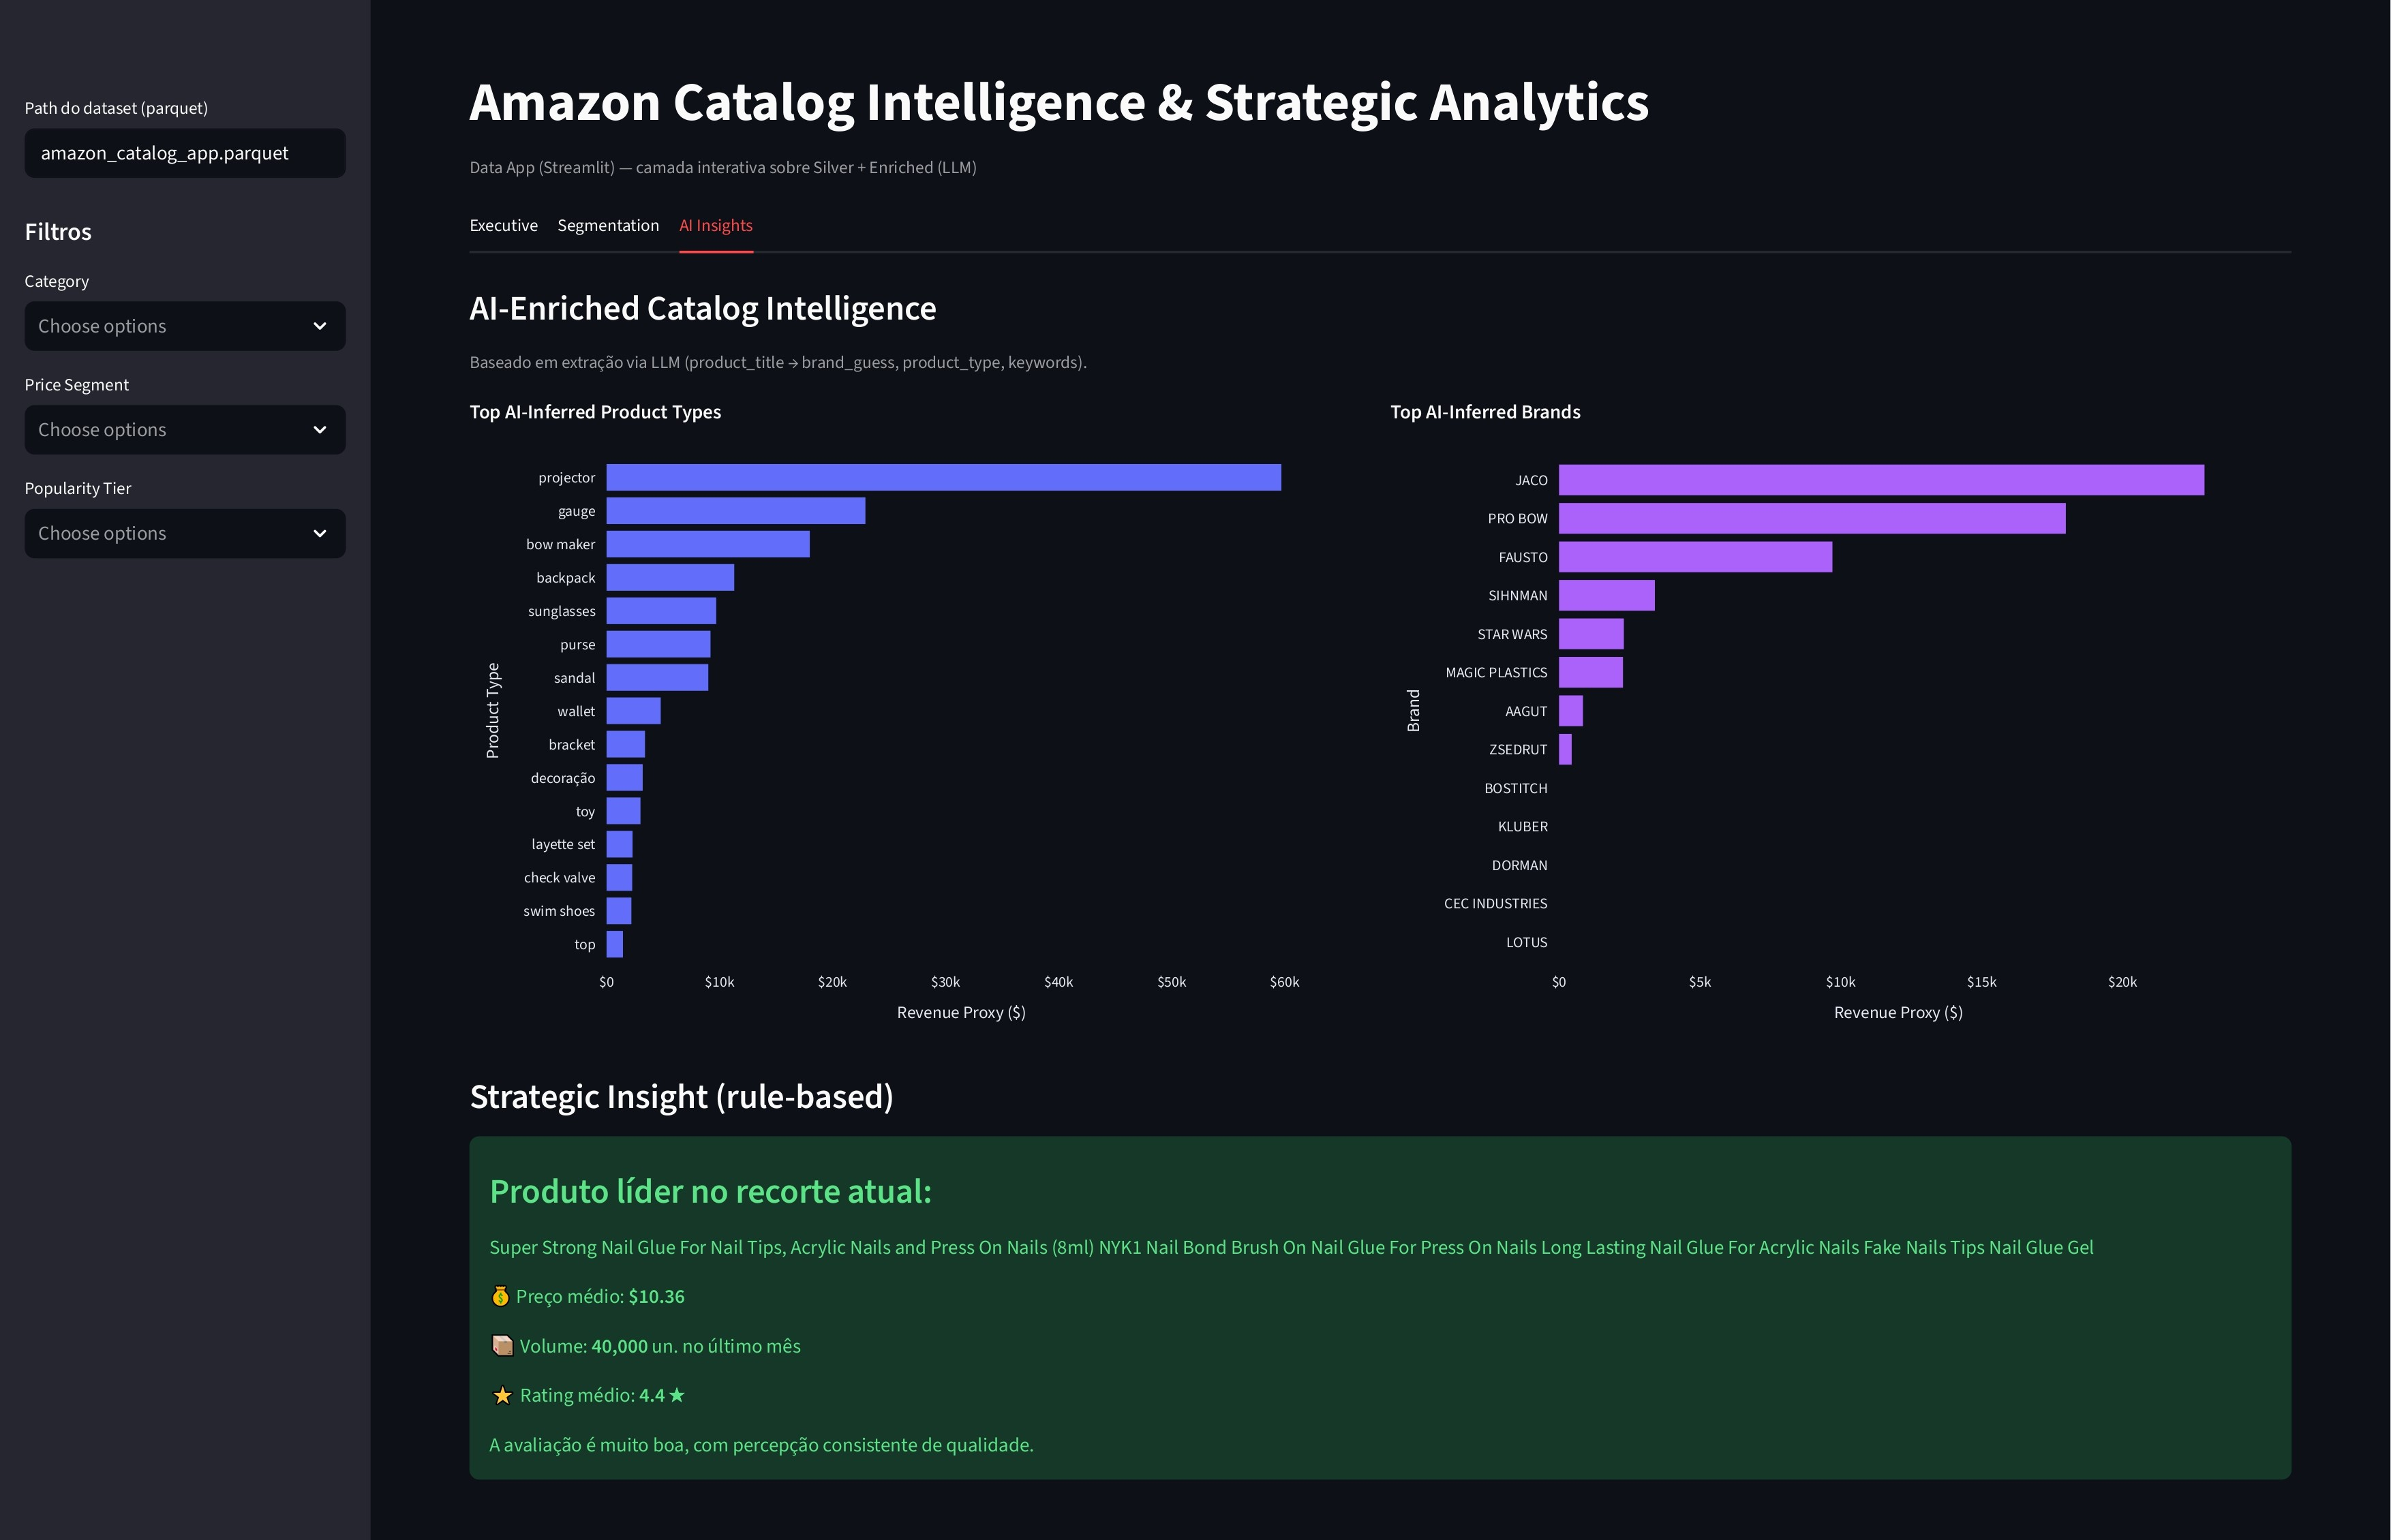

The dashboard page shown, as its layout file describes it:
{"tool":"powerbi","page":{"name":"AI Strategic Insights","canvas":[1280,720],"ordinal":2},"visuals":[{"type":"hundredPercentStackedBarChart","title":"AI-Inferred Product Type Mix","fields":{"Category":["dash_ai_segment_analysis.llm_product_type"],"Y":["Medidas.AI Product Volume"],"Series":["dim_tier.popularity_tier"]},"box":[379.3,299.6,440.6,410.5],"z":0},{"type":"cardVisual","fields":{"Data":["Medidas.AI Product Volume"]},"box":[380,10,215,100],"z":1000},{"type":"cardVisual","fields":{"Data":["Medidas.AI Average Price"]},"box":[830,10,215,100],"z":2000},{"type":"cardVisual","fields":{"Data":["Medidas.AI Average Rating"]},"box":[1055,10,215,100],"z":3000},{"type":"textbox","box":[10,10,360,100],"z":4000},{"type":"clusteredBarChart","title":"Top AI-Inferred Brands by Units Sold (Sample)","fields":{"Category":["dash_ai_segment_analysis.llm_brand_guess"],"Y":["Medidas.AI Total Units"]},"box":[10,300,360,410],"z":5000},{"type":"treemap","title":"Where AI Product Types Concentrate (by Price Segment)","fields":{"Group":["dash_ai_segment_analysis.llm_product_type"],"Values":["Medidas.AI Product Volume"],"Details":["dim_segment.price_segment"]},"box":[830,430,440,280],"z":6000},{"type":"cardVisual","fields":{"Data":["Medidas.AI Total Units"]},"box":[604.9,10,215,100],"z":7000},{"type":"slicer","fields":{"Values":["dim_segment.price_segment"]},"box":[10,120,360,80],"z":8000},{"type":"slicer","fields":{"Values":["dim_tier.popularity_tier"]},"box":[10,210,360,80],"z":9000},{"type":"scatterChart","title":"AI Strategic Positioning Matrix","fields":{"Series":["dash_ai_segment_analysis.llm_product_type"],"X":["Medidas.AI Average Price"],"Y":["Medidas.AI Average Rating"],"Size":["Medidas.AI Total Units"]},"box":[830.4,120,440,300],"z":10000},{"type":"cardVisual","fields":{"Data":["Medidas.AI Strategic Insight (Text)"]},"box":[380.6,120.3,440,170],"z":11000}]}

Visuals, with their boxes on the page's 1280x720 design canvas (x1, y1, x2, y2). These are canvas units, not pixel positions in the 2391x1540 screenshot, which may show the page scaled, cropped or inside an application window:
"AI-Inferred Product Type Mix" hundredPercentStackedBarChart: bbox=[379, 300, 820, 710]
cardVisual - Medidas.AI Product Volume: bbox=[380, 10, 595, 110]
cardVisual - Medidas.AI Average Price: bbox=[830, 10, 1045, 110]
cardVisual - Medidas.AI Average Rating: bbox=[1055, 10, 1270, 110]
textbox: bbox=[10, 10, 370, 110]
"Top AI-Inferred Brands by Units Sold (Sample)" clusteredBarChart: bbox=[10, 300, 370, 710]
"Where AI Product Types Concentrate (by Price Segment)" treemap: bbox=[830, 430, 1270, 710]
cardVisual - Medidas.AI Total Units: bbox=[605, 10, 820, 110]
slicer - dim_segment.price_segment: bbox=[10, 120, 370, 200]
slicer - dim_tier.popularity_tier: bbox=[10, 210, 370, 290]
"AI Strategic Positioning Matrix" scatterChart: bbox=[830, 120, 1270, 420]
cardVisual - Medidas.AI Strategic Insight (Text): bbox=[381, 120, 821, 290]
